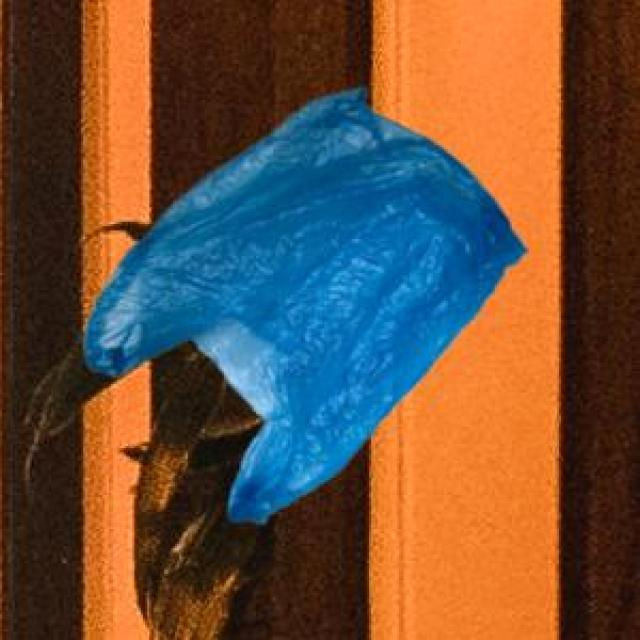Plastic_Bag: (82, 87, 524, 520)
